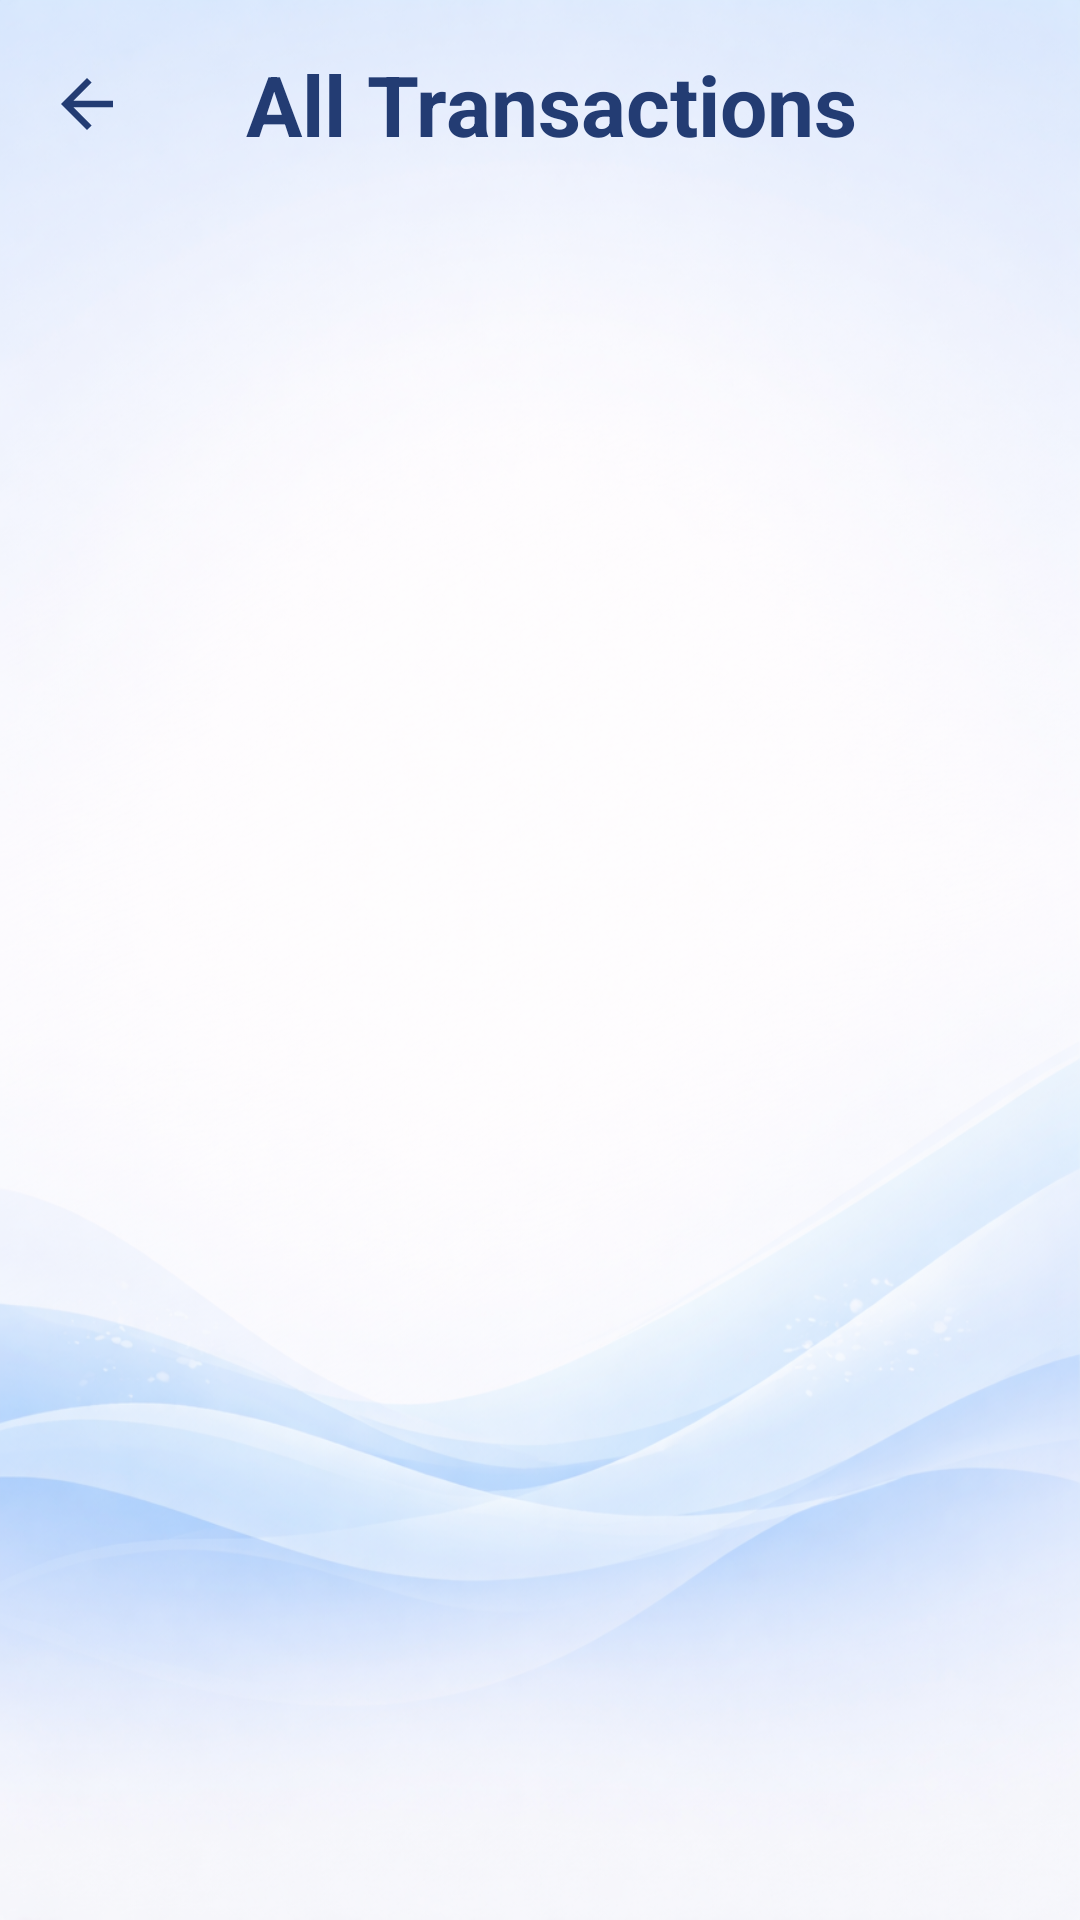

Named icons in this screenshot (1080x1920) and their bounding boxes, (x1, y1, x2, y2):
back arrow: (61, 78, 113, 130)
